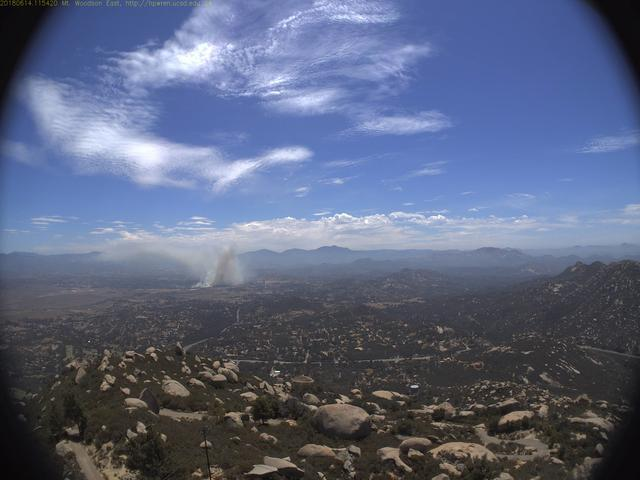smoke: (96, 227, 251, 290)
